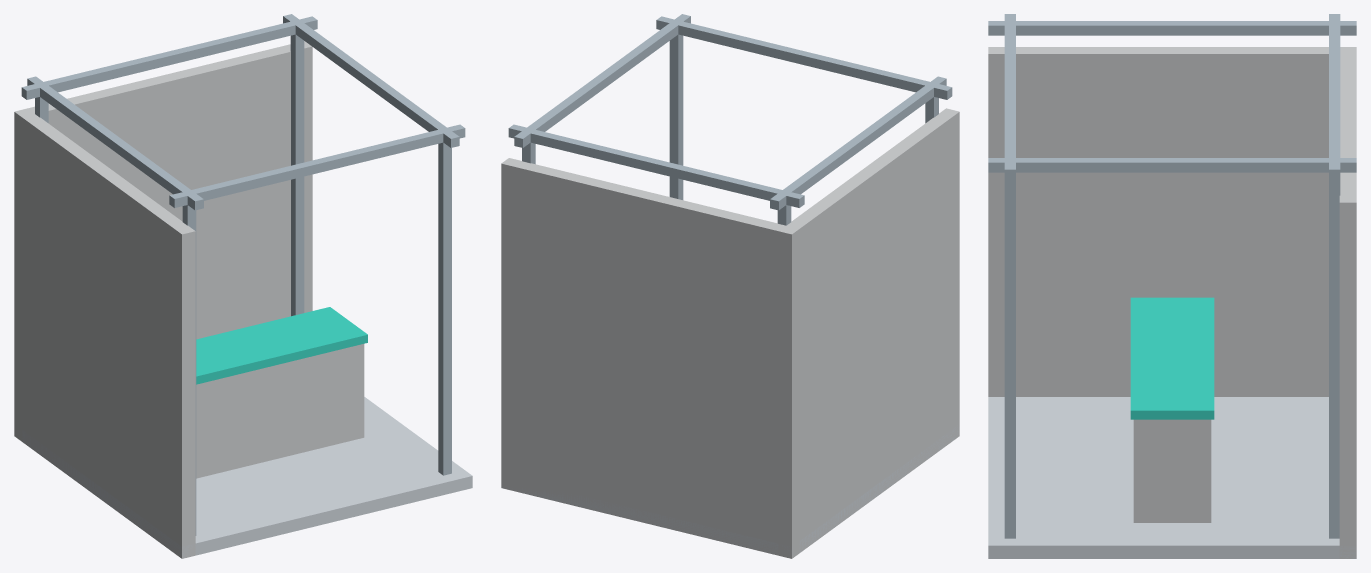
3 renders of one model, left to right at view 1: azimuth 30°, elevation 25°; view 2: azimuth 150°, elevation 25°; view 3: azimuth 270°, elevation 25°, orthographic. The views are drawn at different scales.
Visible parts, largest first — view 1: Exhibition Booth Concept; view 2: Exhibition Booth Concept; view 3: Exhibition Booth Concept.
Boxes of the visible parts, x1=… form: Exhibition Booth Concept: x1=14, y1=14, x2=472, y2=558; Exhibition Booth Concept: x1=501, y1=14, x2=959, y2=558; Exhibition Booth Concept: x1=988, y1=14, x2=1356, y2=558.
Bounding box in the file's own units: 3 × 3.49 × 3.
